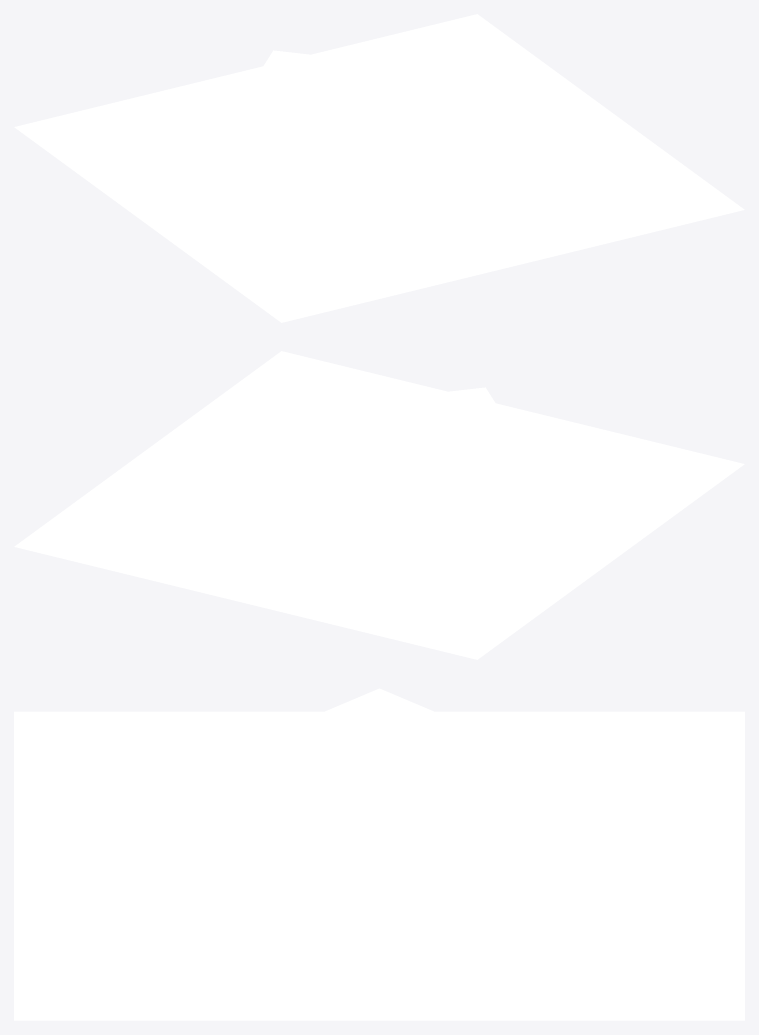
Rendered from mandalas.gltf.
3 renders of one model, top to bottom at view 1: azimuth 30°, elevation 25°; view 2: azimuth 150°, elevation 25°; view 3: azimuth 270°, elevation 25°, orthographic. The views are drawn at different scales.
Visible parts, largest first — view 1: pPlane1_anisotropic1_0, pPlane2_anisotropic1_0; view 2: pPlane1_anisotropic1_0, pPlane2_anisotropic1_0; view 3: pPlane1_anisotropic1_0, pPlane2_anisotropic1_0.
Part boxes in pixels (bbox=[...]): pPlane1_anisotropic1_0: bbox=[14, 14, 744, 322]; pPlane2_anisotropic1_0: bbox=[196, 50, 562, 205]; pPlane1_anisotropic1_0: bbox=[14, 351, 744, 659]; pPlane2_anisotropic1_0: bbox=[196, 387, 562, 542]; pPlane1_anisotropic1_0: bbox=[14, 711, 744, 1020]; pPlane2_anisotropic1_0: bbox=[90, 688, 668, 933].
Bounding box in the file's own units: 146 × 12.12 × 146.
Materials: 1 (1 with a texture image).
